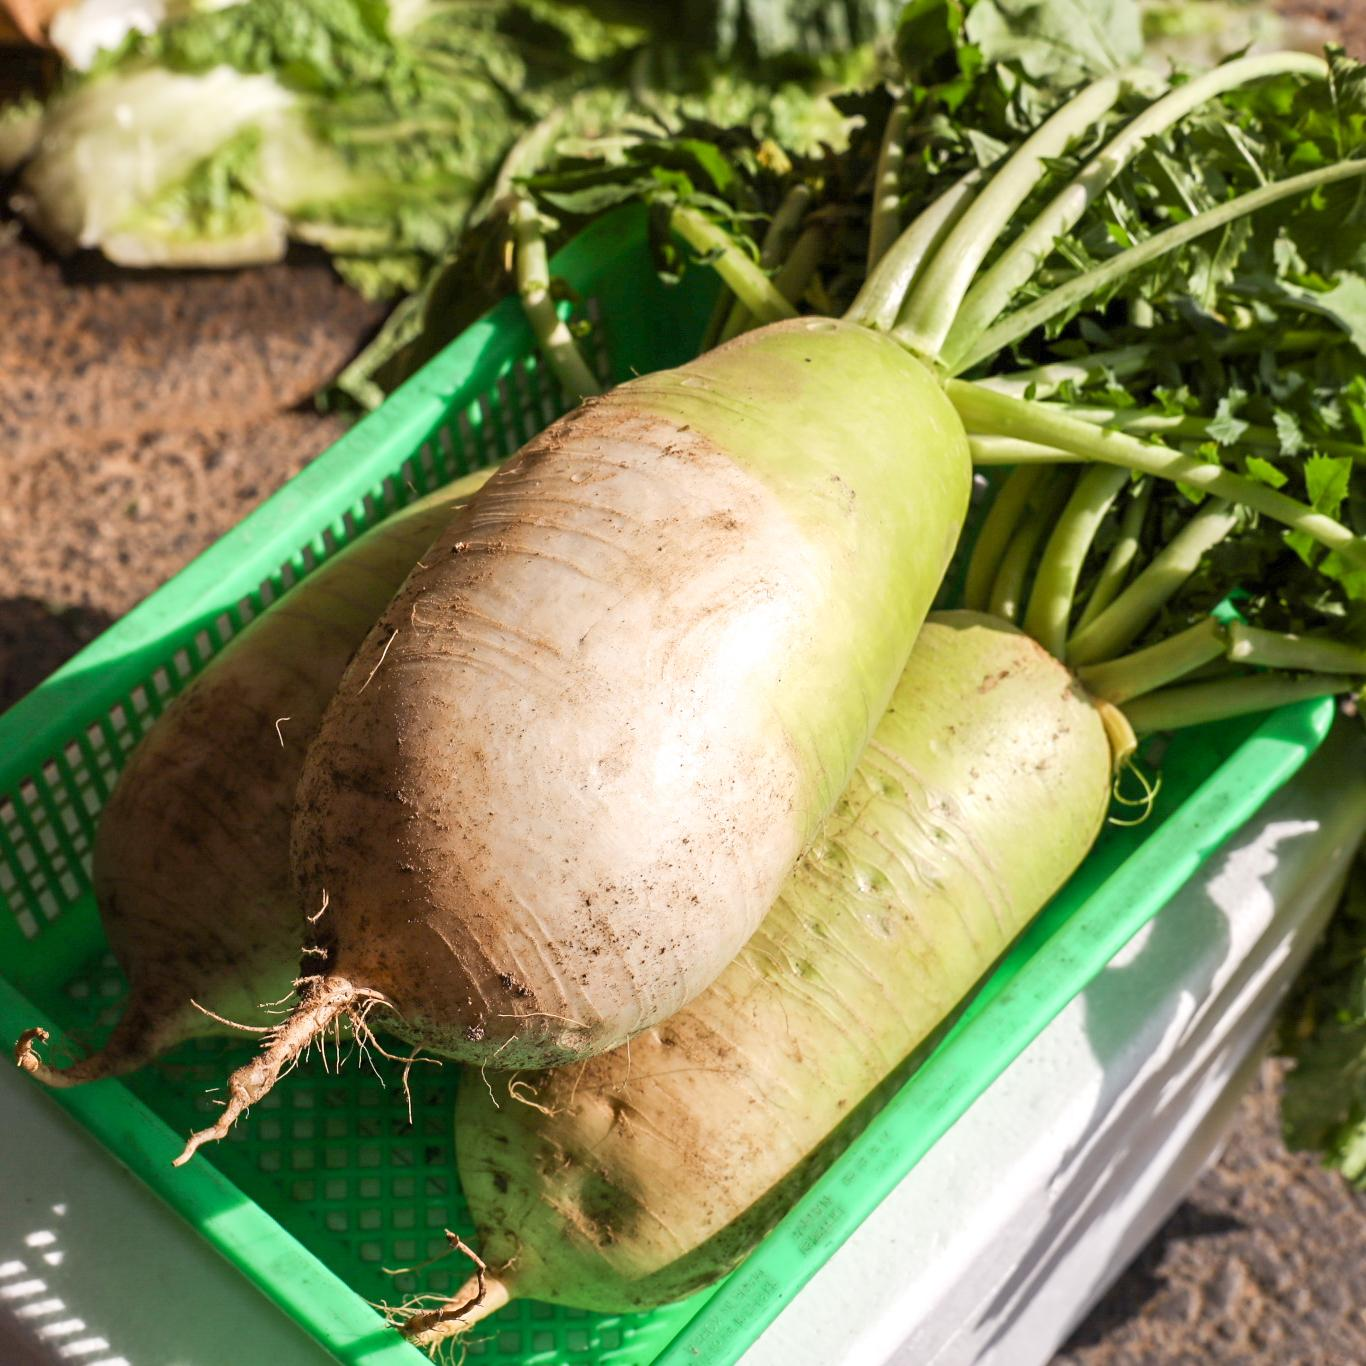radish: (994, 726, 1366, 1366)
